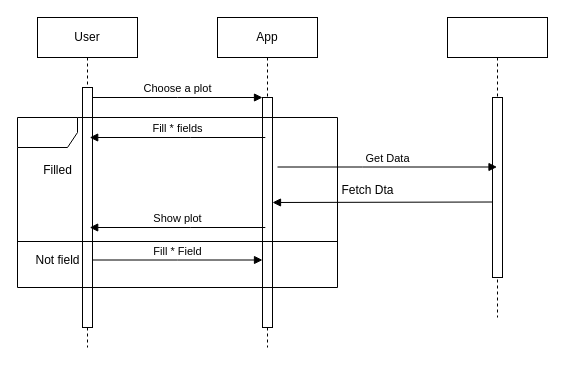
Some shapes in this 565 by 365 pixel diagram are drawn without their labels. Each missing label, with the box of its shape:
alt: (16, 116, 338, 288)
API: (446, 16, 548, 318)
